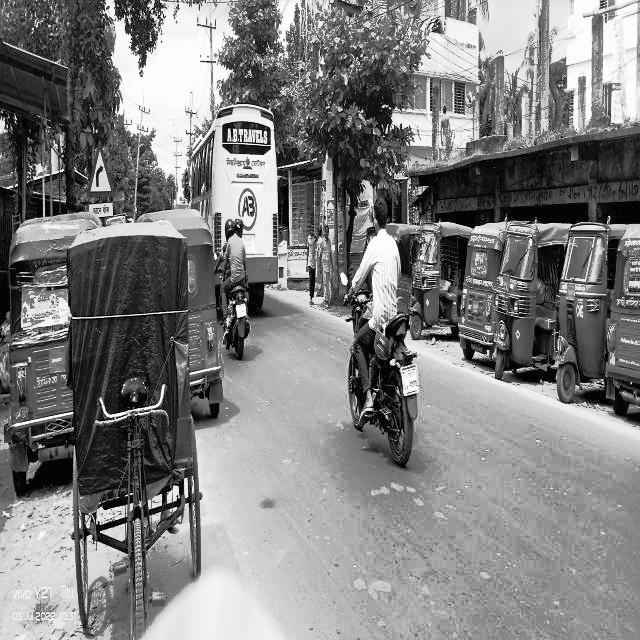Bus: (206, 98, 284, 286)
